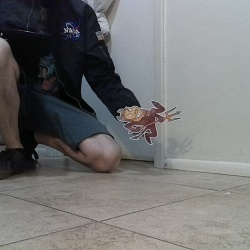sparky: (115, 99, 181, 144)
